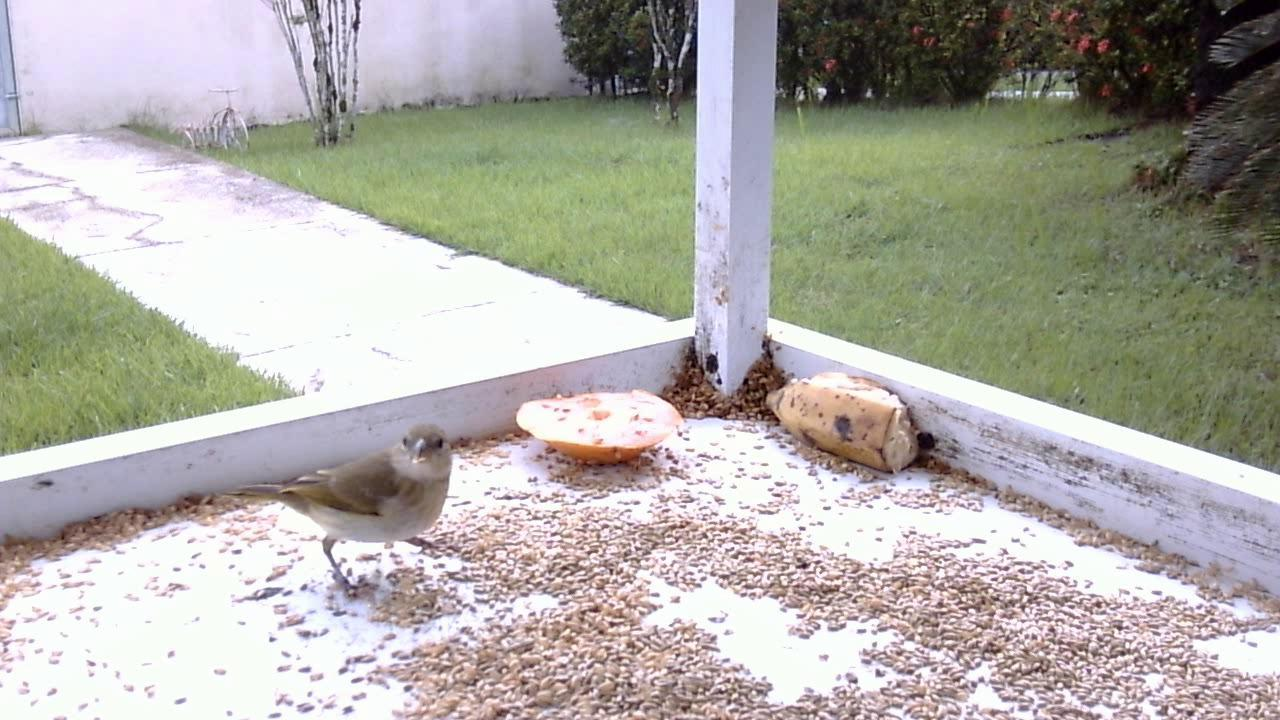canario_do_amazonas: (231, 419, 460, 608)
